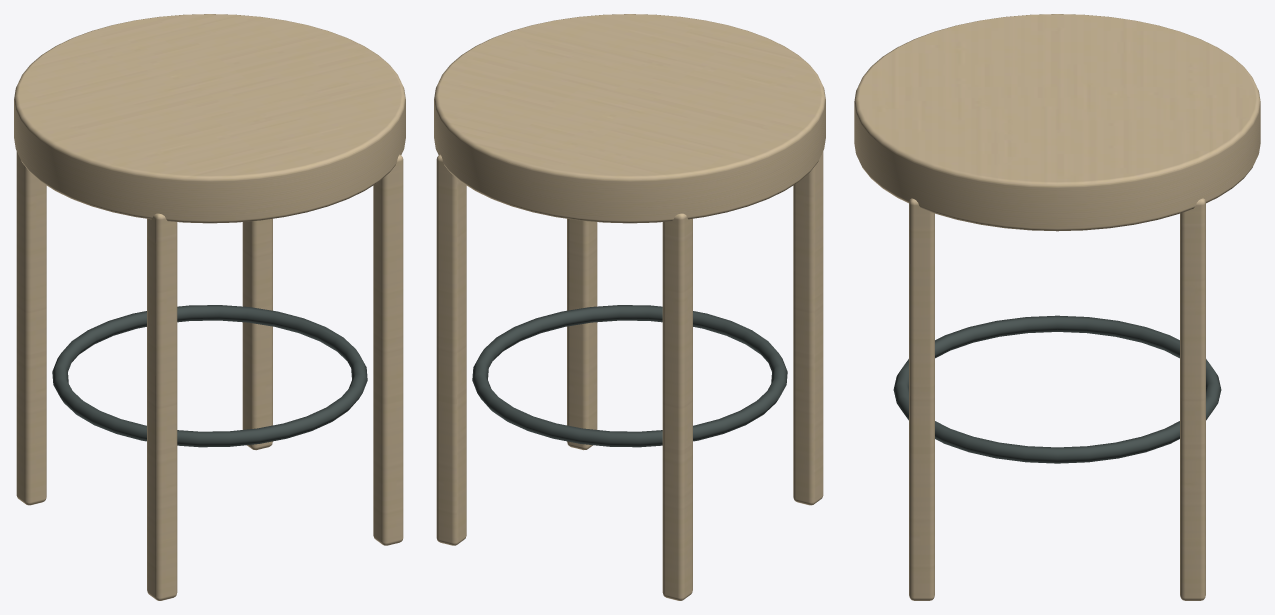
Rendered from stool-v1.glb.
3 renders of one model, left to right at view 1: azimuth 30°, elevation 25°; view 2: azimuth 150°, elevation 25°; view 3: azimuth 270°, elevation 25°, orthographic. The views are drawn at different scales.
Visible parts, largest first — view 1: Bar stool leg; view 2: Bar stool leg; view 3: Bar stool leg.
Boxes of the visible parts, bbox=[...] form: Bar stool leg: bbox=[14, 14, 405, 600]; Bar stool leg: bbox=[434, 14, 825, 600]; Bar stool leg: bbox=[854, 14, 1260, 600].
Size of the model in its own units: 0.6 by 0.72 by 0.6.
2 materials, 1 textured.
